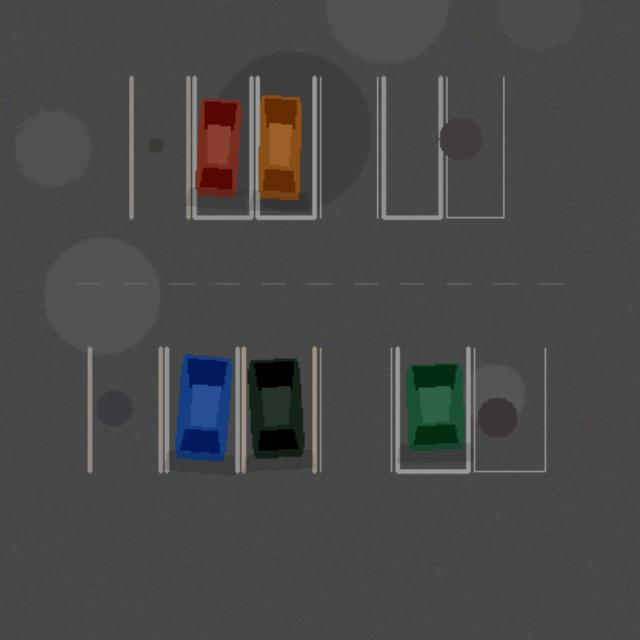space-empty: (89, 348, 160, 471), (320, 348, 391, 471), (474, 348, 545, 471), (131, 77, 188, 217), (320, 77, 377, 217), (383, 77, 440, 217), (446, 77, 503, 217)
space-occupied: (166, 348, 237, 471), (243, 348, 314, 471), (397, 348, 468, 471), (194, 77, 251, 217), (257, 77, 314, 217)
